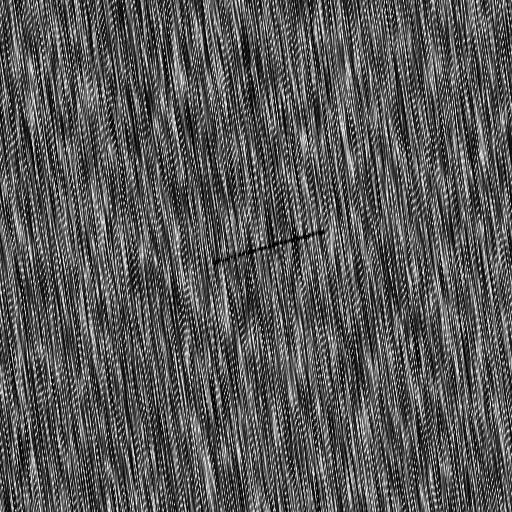DefectTypeC: (214, 228, 327, 266)
